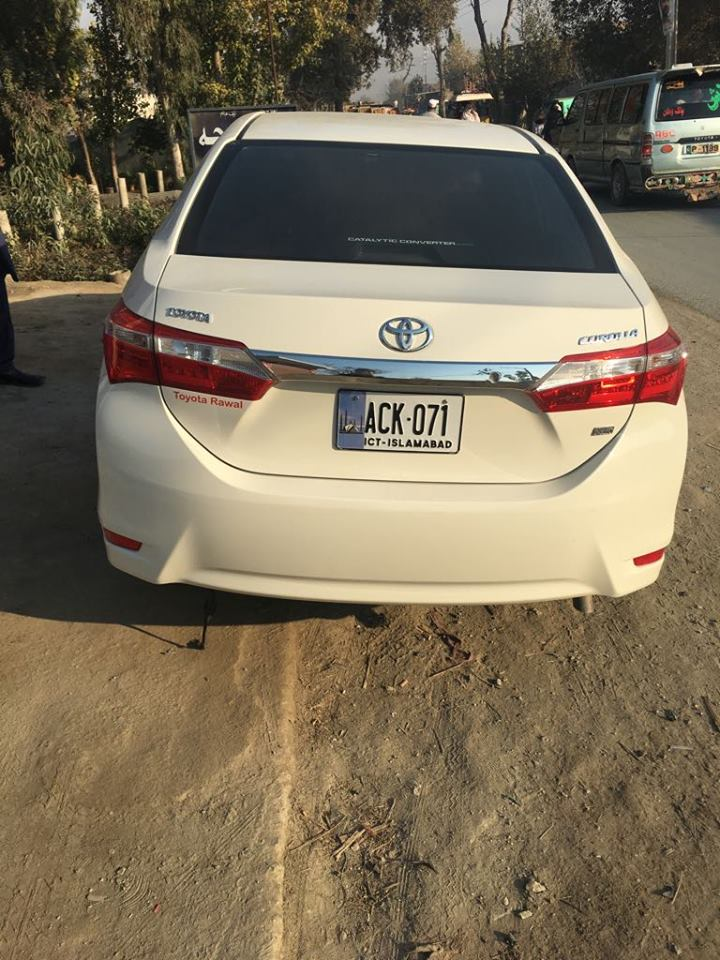plate: (331, 384, 467, 458)
